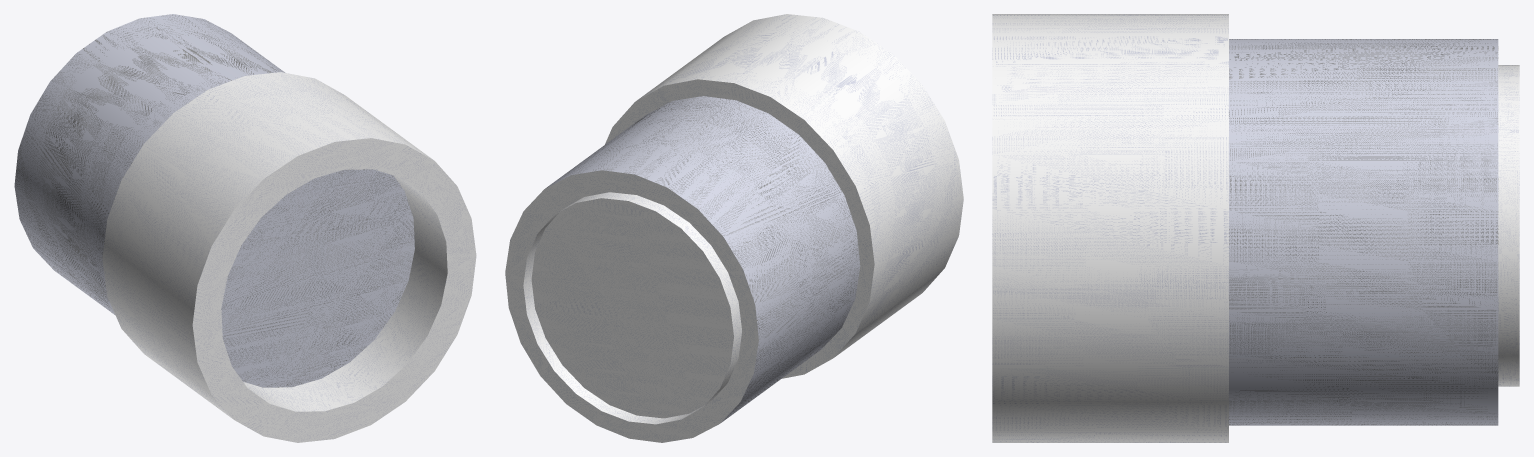
The picture shows the model from 3 angles, left to right: view 1: azimuth 30°, elevation 25°; view 2: azimuth 150°, elevation 25°; view 3: azimuth 270°, elevation 25°; orthographic projection. The views are drawn at different scales.
Parts seen in each view (by area): view 1: SketchUp.255, SketchUp.254, SketchUp.257, SketchUp.258; view 2: SketchUp.255, SketchUp.244, SketchUp.254, SketchUp.252; view 3: SketchUp.254, SketchUp.255, SketchUp.244.
Boxes of the visible parts, x1,y1,x2,y2 form: SketchUp.255: (102,72,476,442); SketchUp.254: (14,14,285,314); SketchUp.257: (221,169,414,387); SketchUp.258: (243,175,447,411); SketchUp.255: (605,14,963,378); SketchUp.244: (523,192,741,424); SketchUp.254: (545,96,860,422); SketchUp.252: (505,170,758,442); SketchUp.254: (1229,39,1498,425); SketchUp.255: (992,14,1228,442); SketchUp.244: (1498,65,1519,386).
Size of the model in its own units: 0.0635 by 0.0778 by 0.0635.
3 materials, 1 textured.
